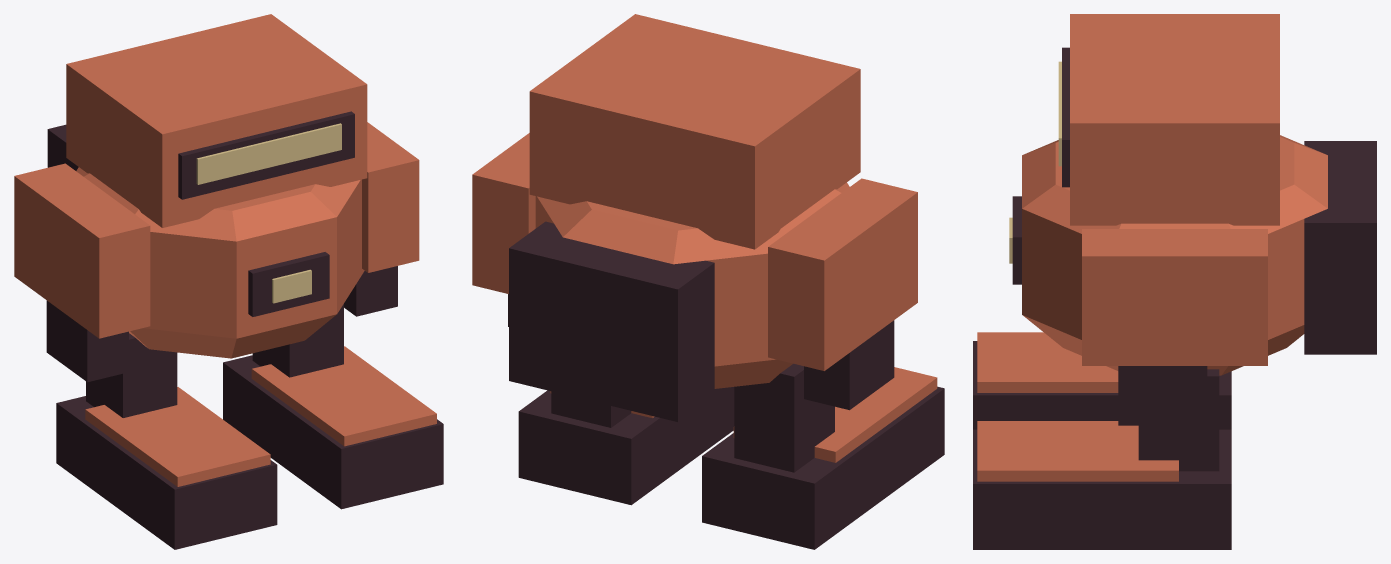
File: enemy_grunt.glb
3 views of the same model, side by side, from view 1: azimuth 30°, elevation 25°; view 2: azimuth 150°, elevation 25°; view 3: azimuth 270°, elevation 25° (orthographic). The views are drawn at different scales.
Parts seen in each view (by area): view 1: enemy_grunt; view 2: enemy_grunt; view 3: enemy_grunt.
Boxes of the visible parts, x1,y1,x2,y2 form: enemy_grunt: (14, 14, 443, 549); enemy_grunt: (472, 14, 944, 549); enemy_grunt: (973, 14, 1376, 549).
Size of the model in its own units: 0.5 by 0.56 by 0.5.
